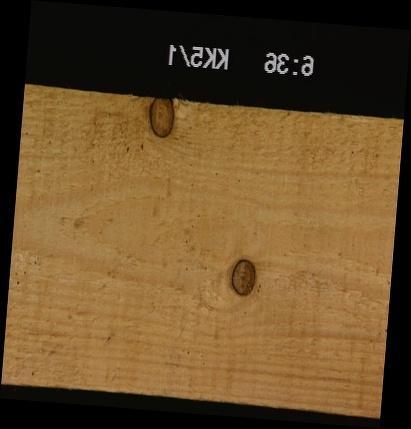dry_knot: (230, 258, 255, 296)
edge_knot: (147, 96, 176, 137)
